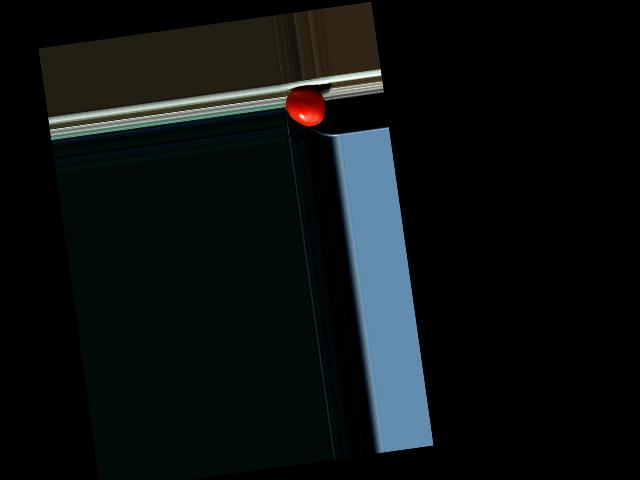tomato: (283, 85, 328, 129)
